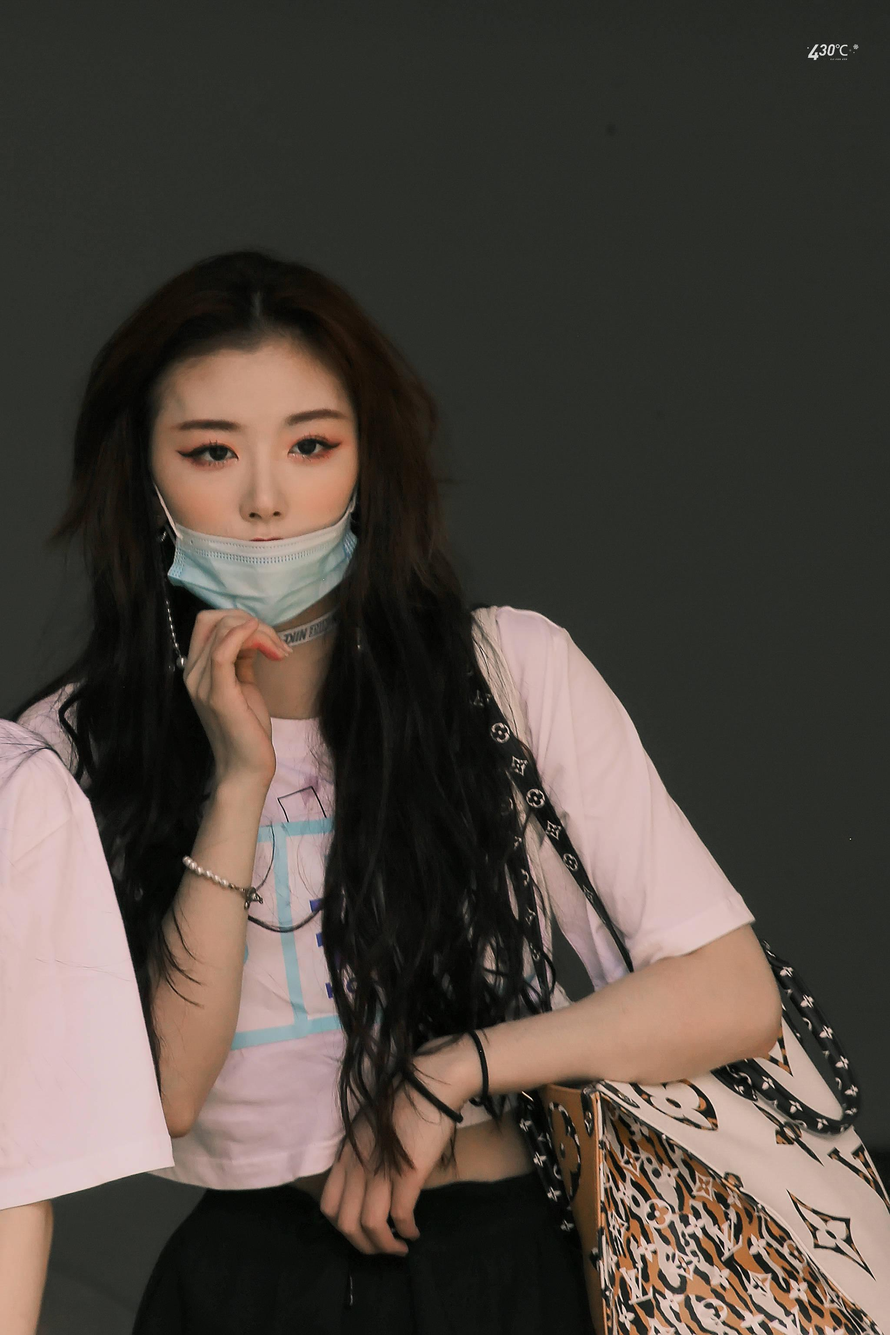WRONG: (154, 383, 361, 620)
